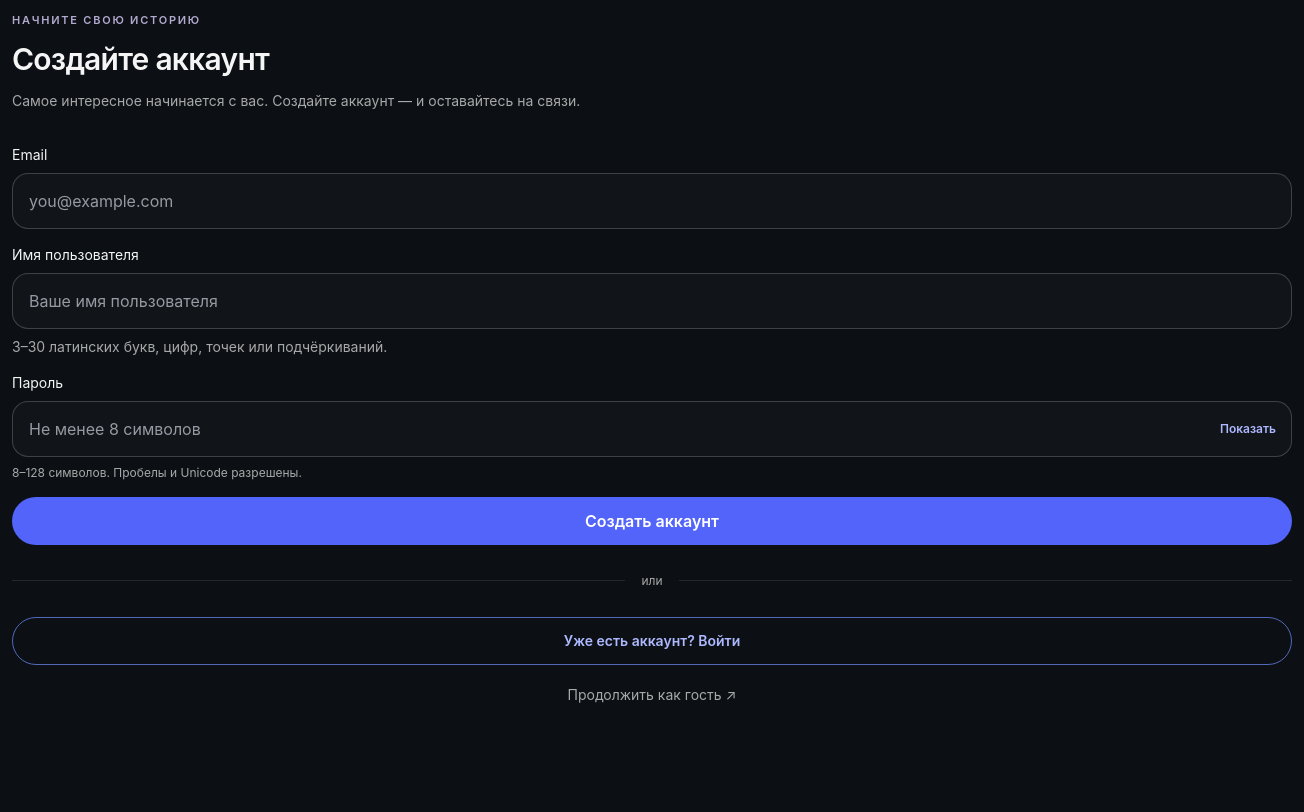
Test: AuthForm › rejects invalid shared-contract input before any API request
In the field labelled "Email": (652, 200) [12,172,1292,228], type "person@example.test"
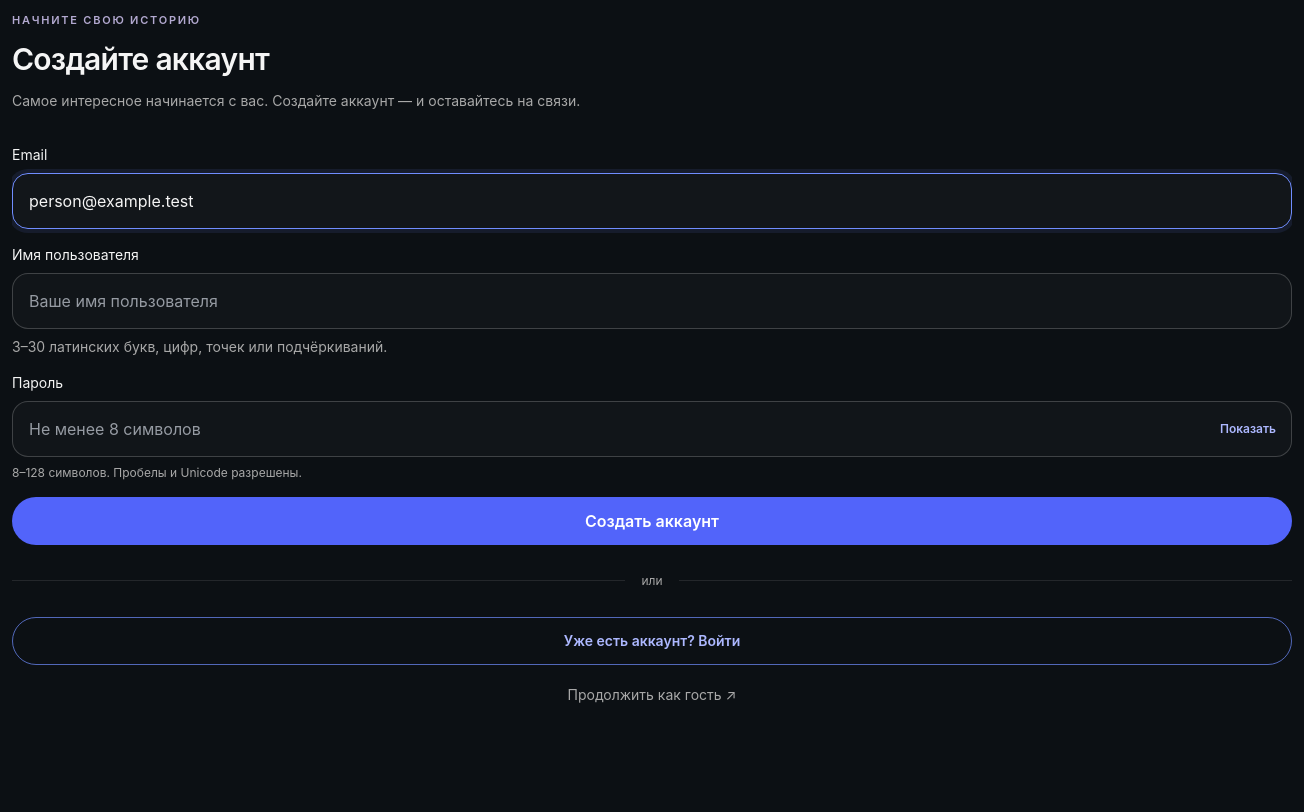
In the field labelled "Имя пользователя": (652, 300) [12,272,1292,328], type "person"
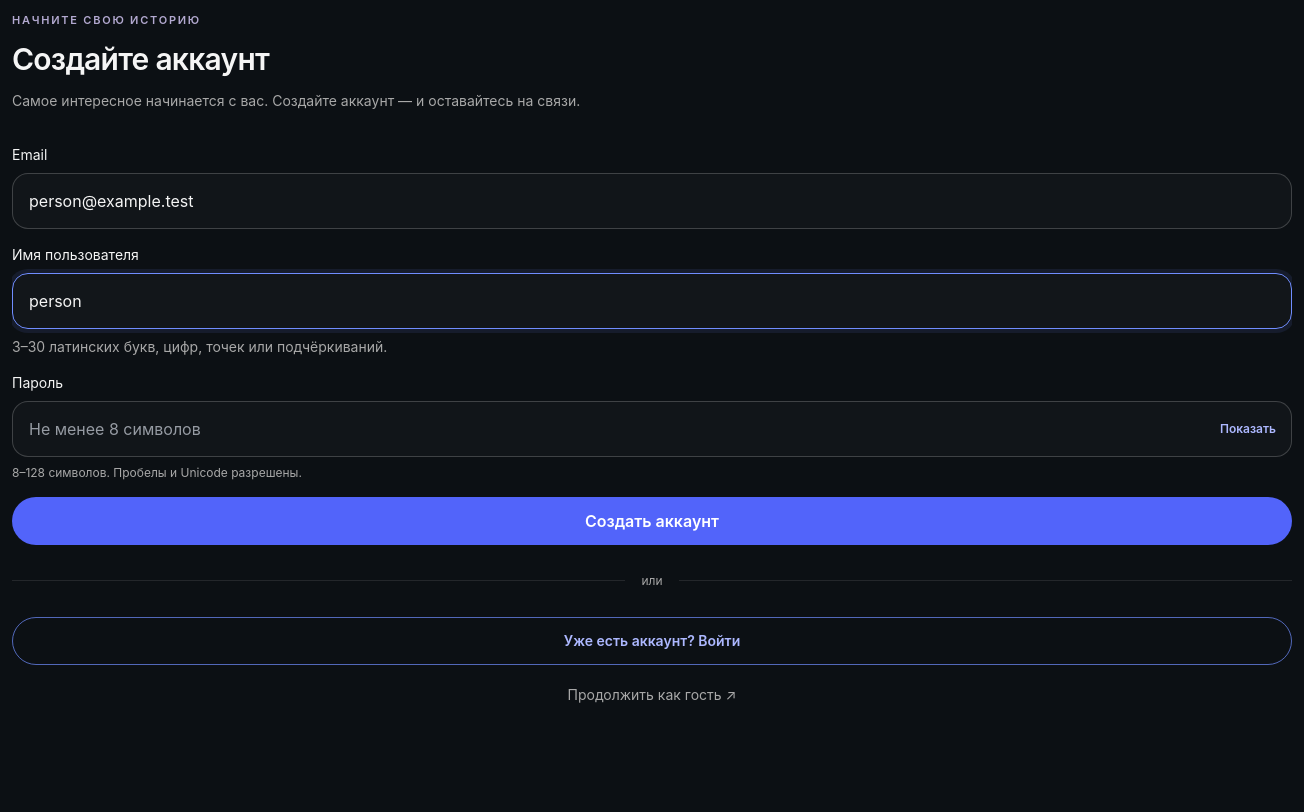
In the password field labelled "Пароль": (652, 428) [12,400,1292,456], type "short"
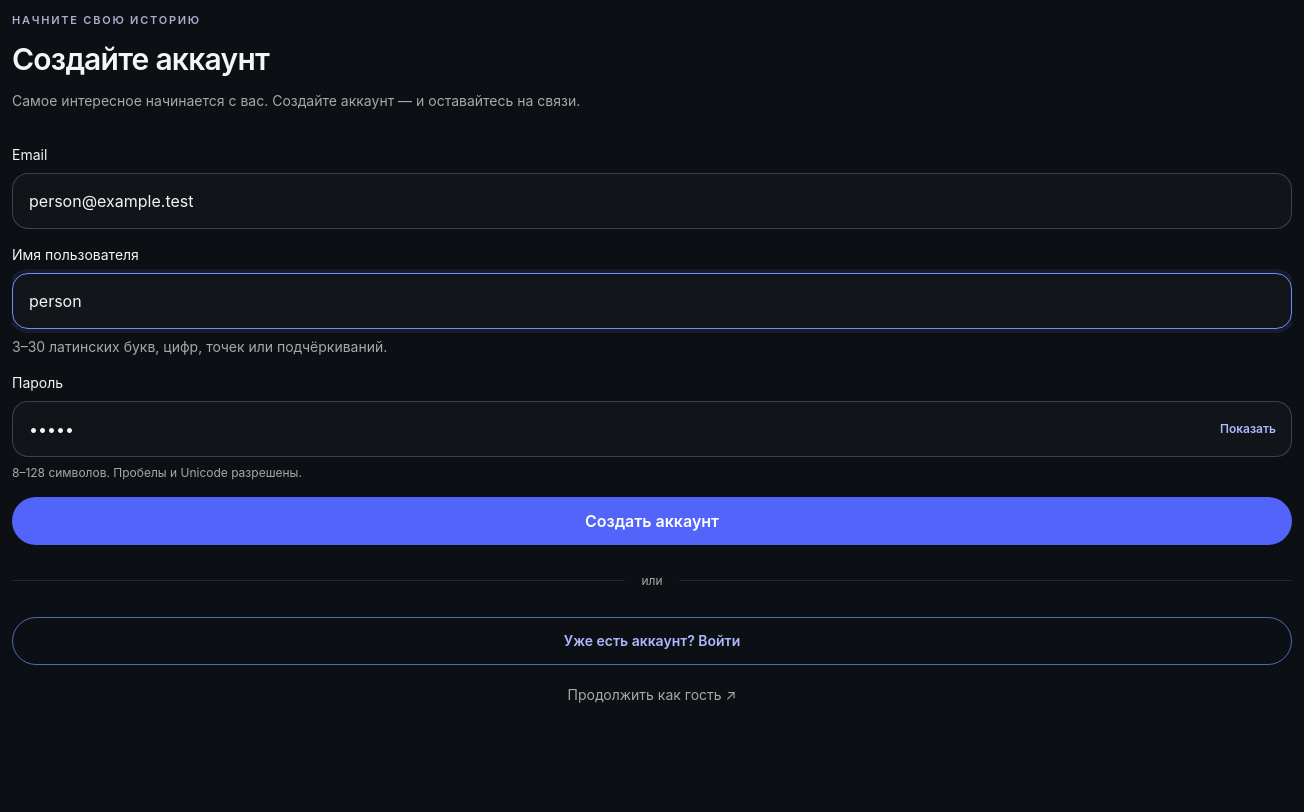
Click the button "Создать аккаунт": (652, 520) [12,496,1292,544]
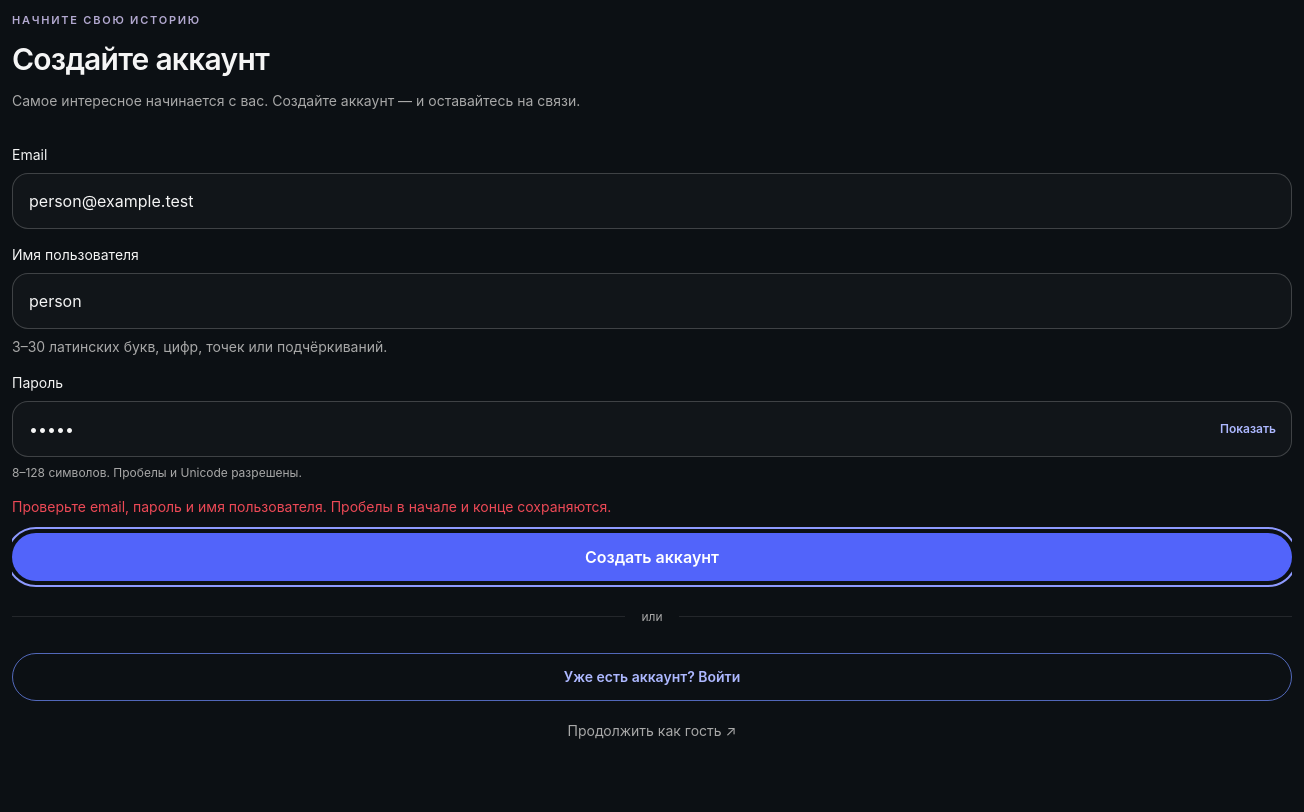
Check: the message shows "Проверьте", box [12,498,194,514]
